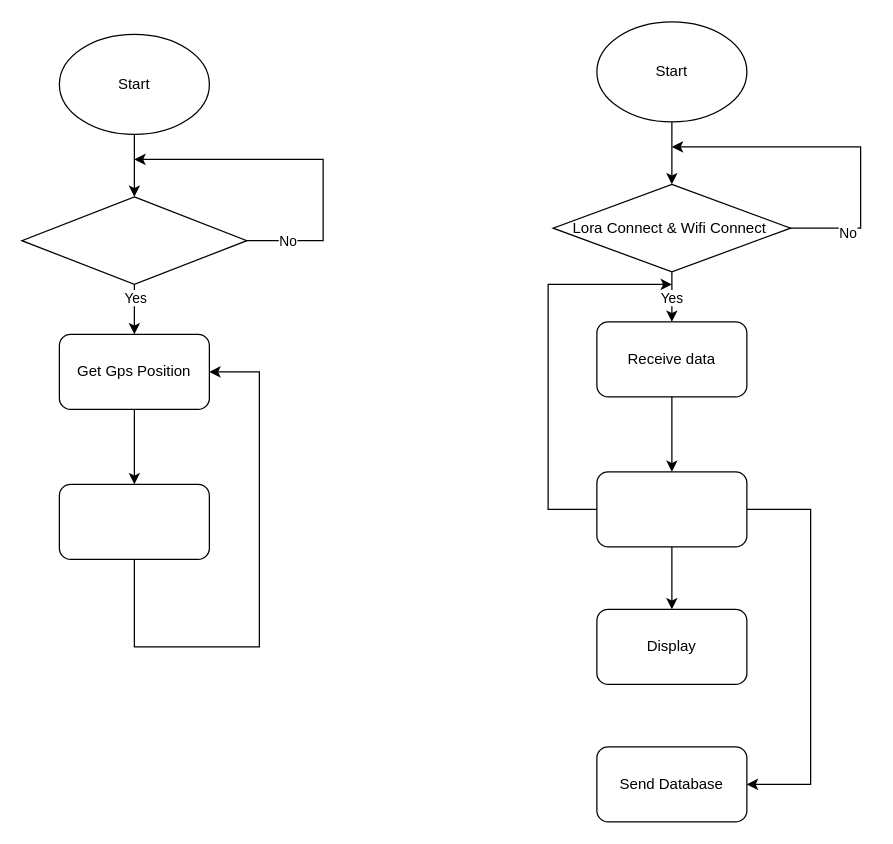
This 893x844 diagram has some shape labels left out. Each missing label, with the centre of its shape:
"Lora Connect & Gps module connect" belongs at (x=134, y=240).
"Read Gps Positon" belongs at (x=671, y=509).
"Send data" belongs at (x=133, y=521).
